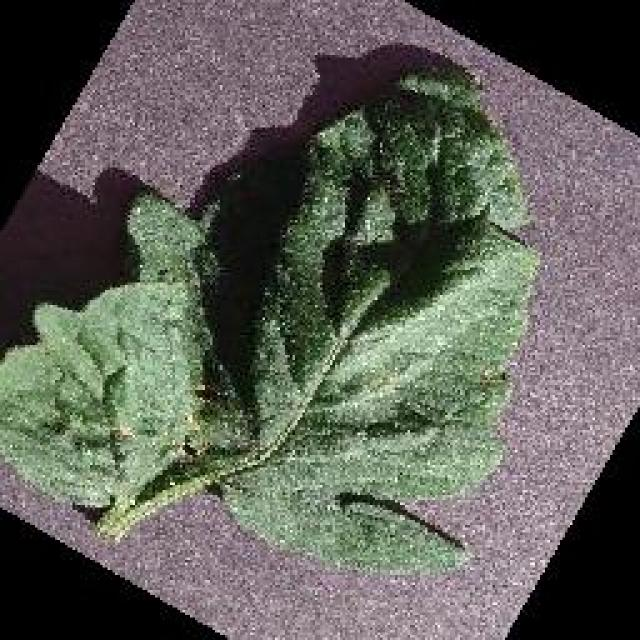Tomato___Target_Spot: (0, 68, 538, 568)
